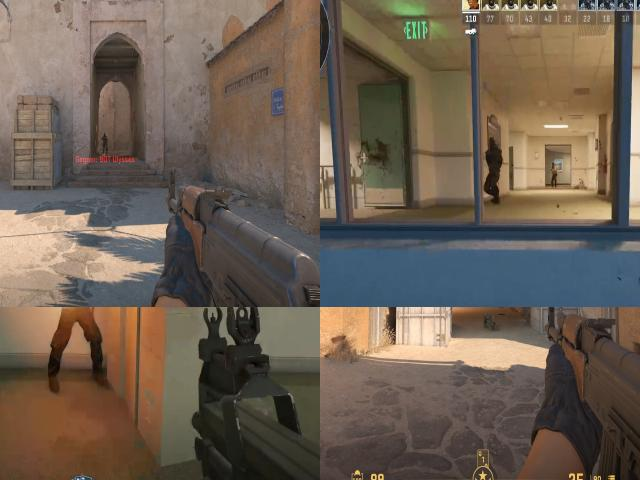CT: (484, 134, 502, 192), (102, 132, 108, 154)
CT-Head: (488, 136, 496, 150), (104, 132, 106, 136)
Dead: (484, 314, 497, 328)
T: (550, 160, 560, 183)
T-Head: (552, 162, 556, 167)
